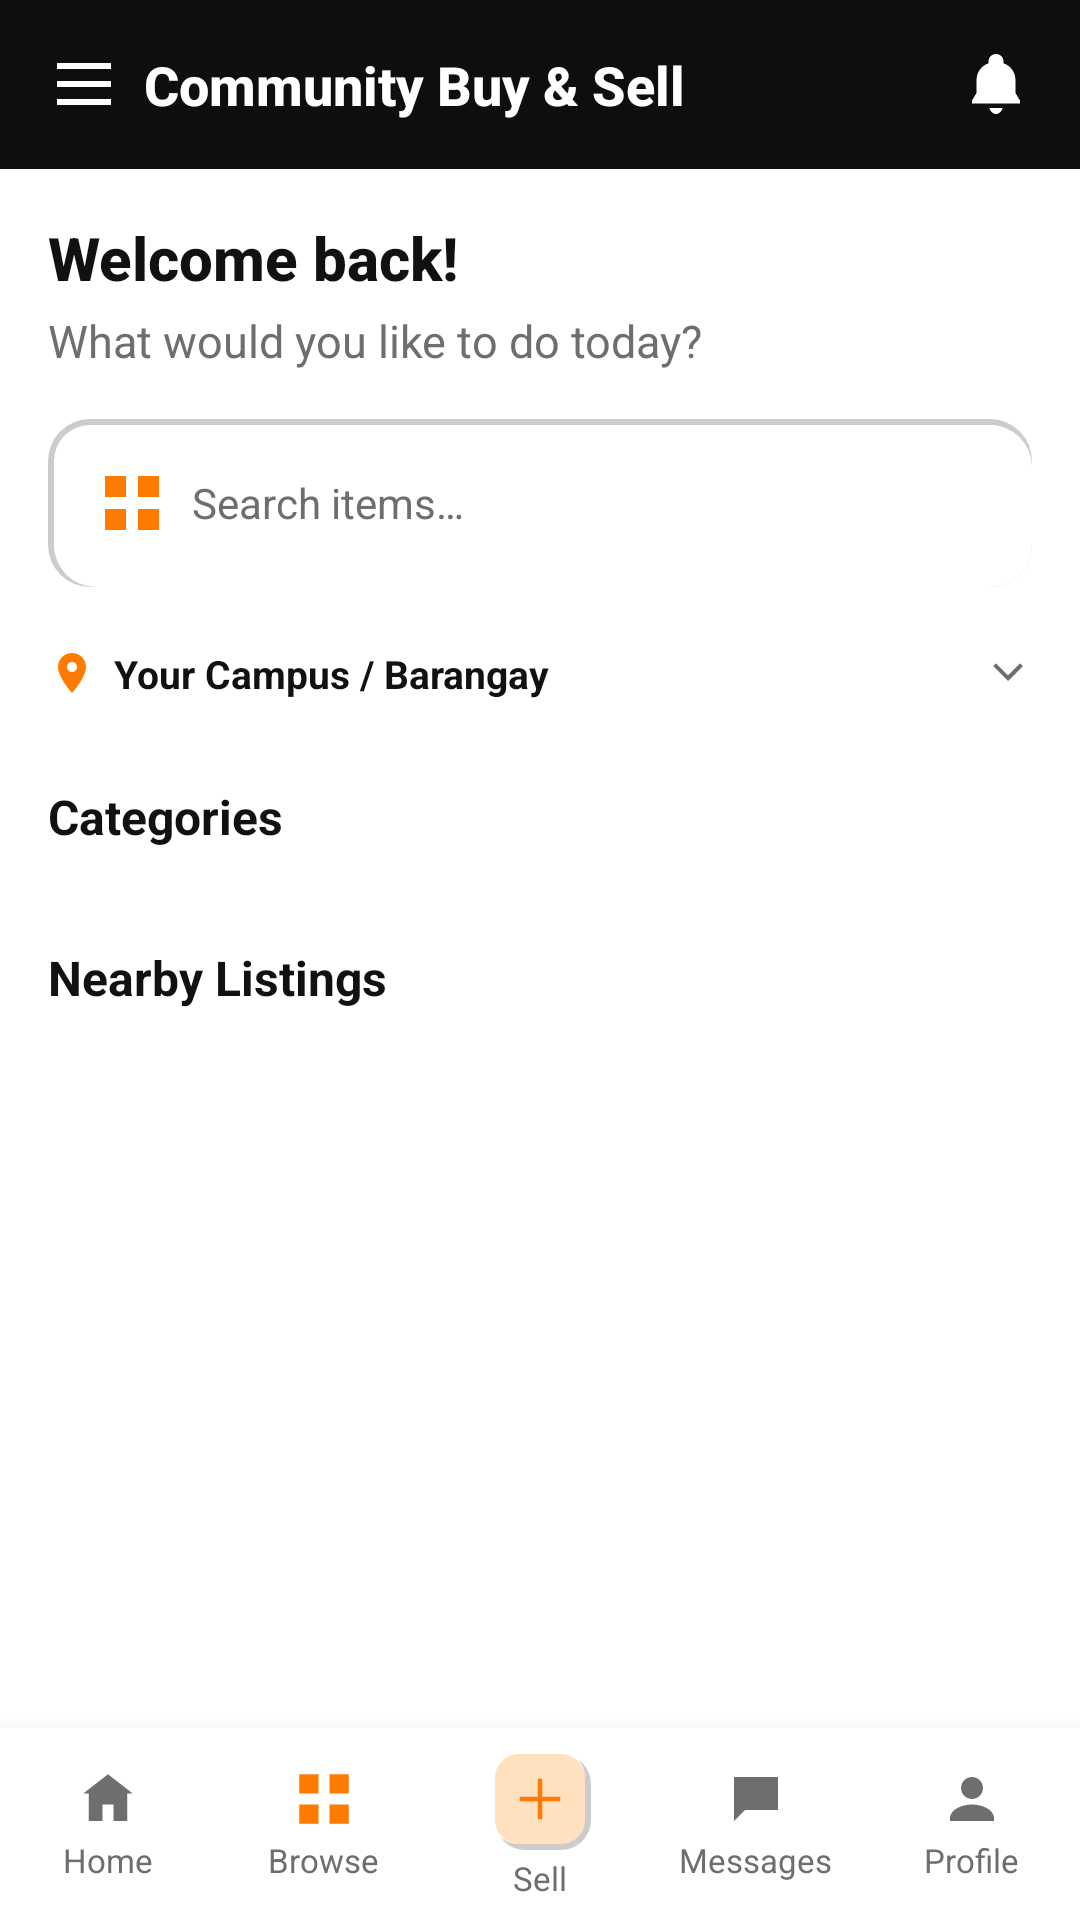

Named icons in this screenshot (1080px x 1920px) and their centers, (x=x, y=y):
location: (x=72, y=673)
Notifications: (x=996, y=84)
Open menu: (x=84, y=84)
